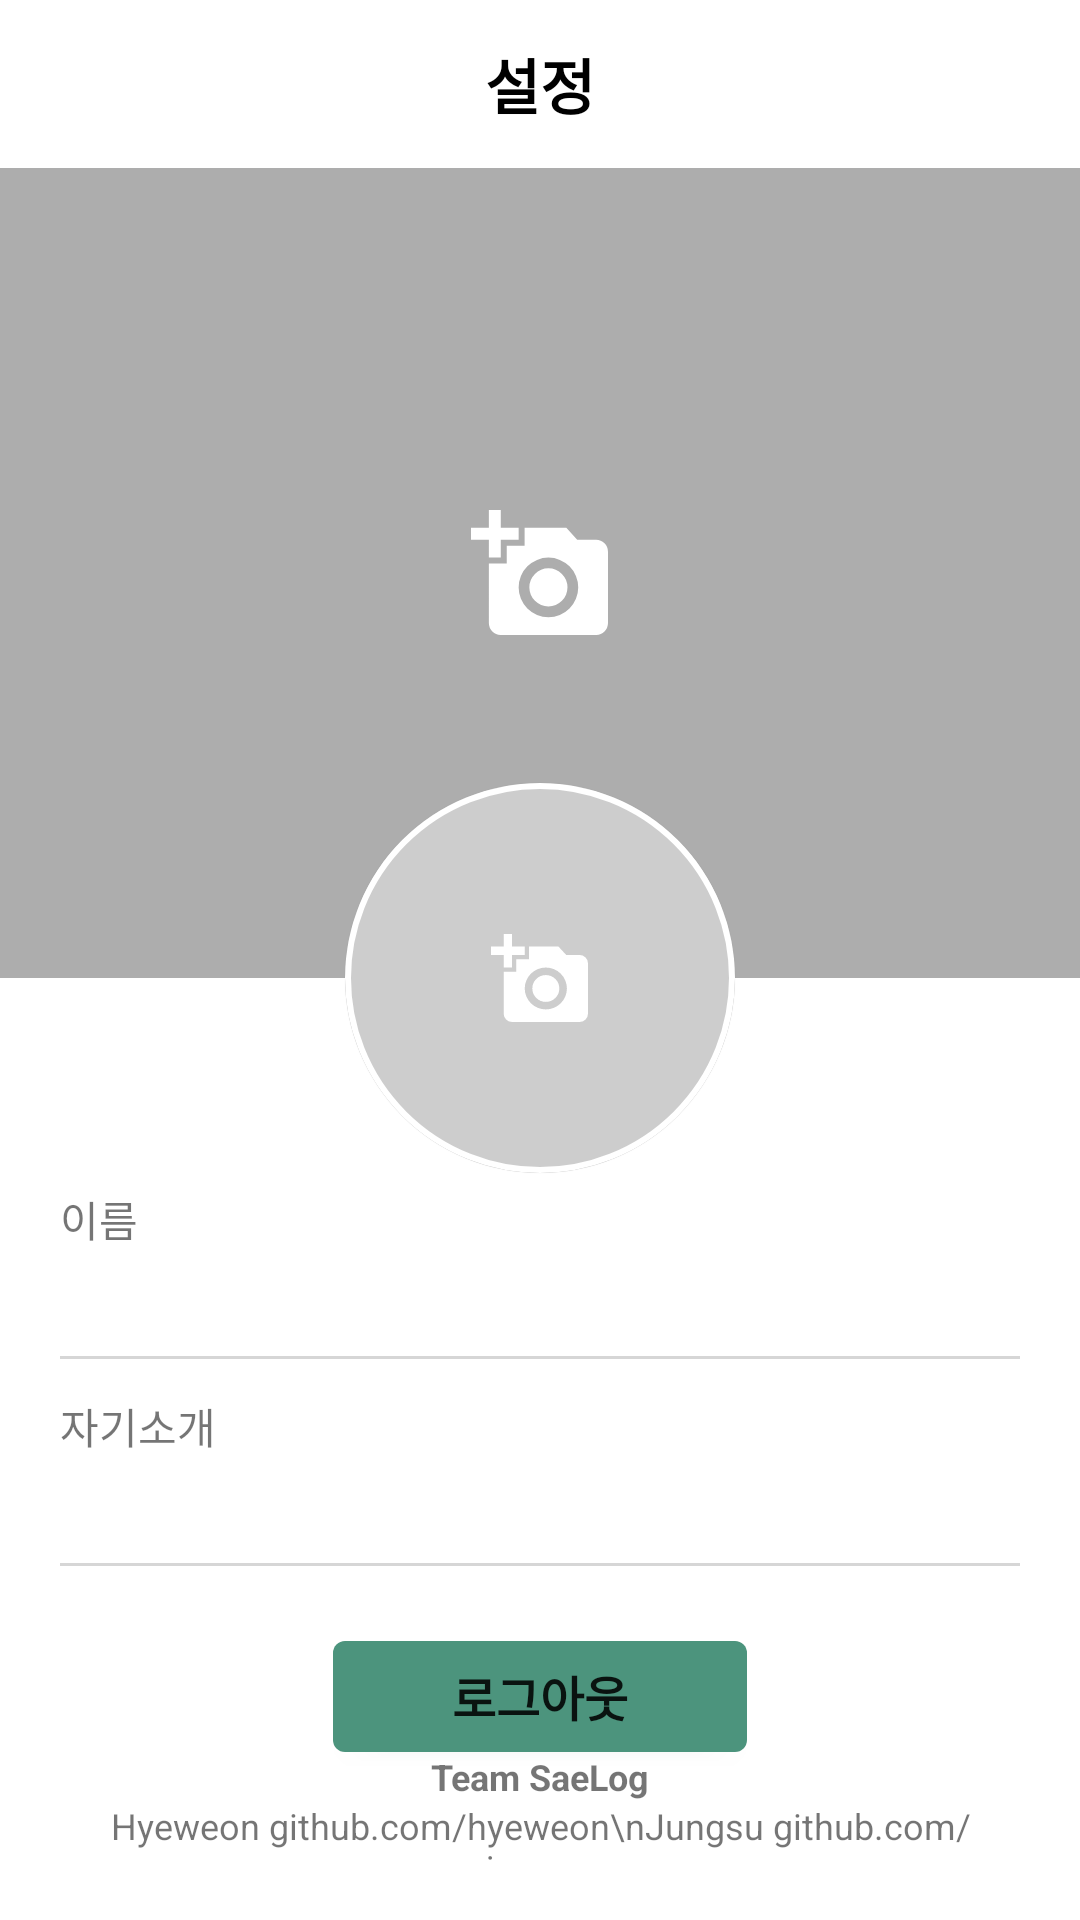

Icon bounding boxes for this 1080 × 1920 phone screenshot, format (x1, y1, x2, y2):
photo add: (471, 510, 608, 635), (491, 934, 588, 1022)
